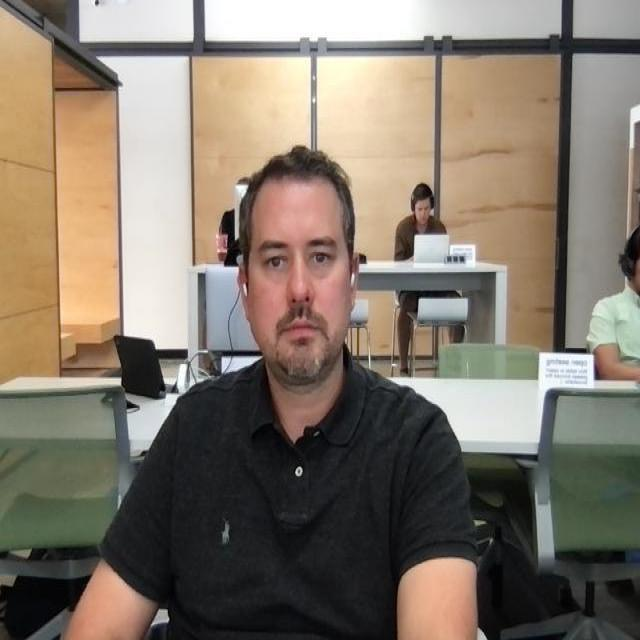face: (242, 149, 356, 383), (410, 183, 435, 228), (628, 234, 640, 290)
